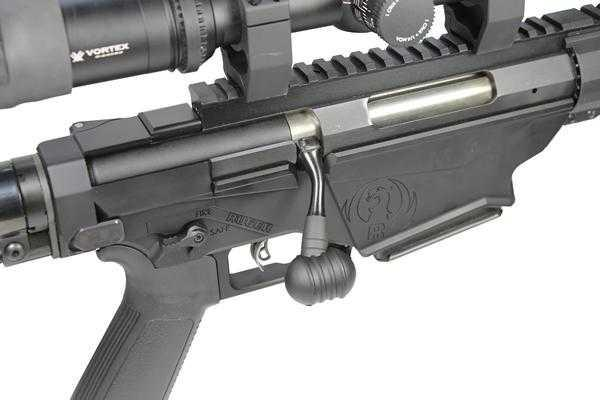heavyweapon: (0, 1, 598, 400)
